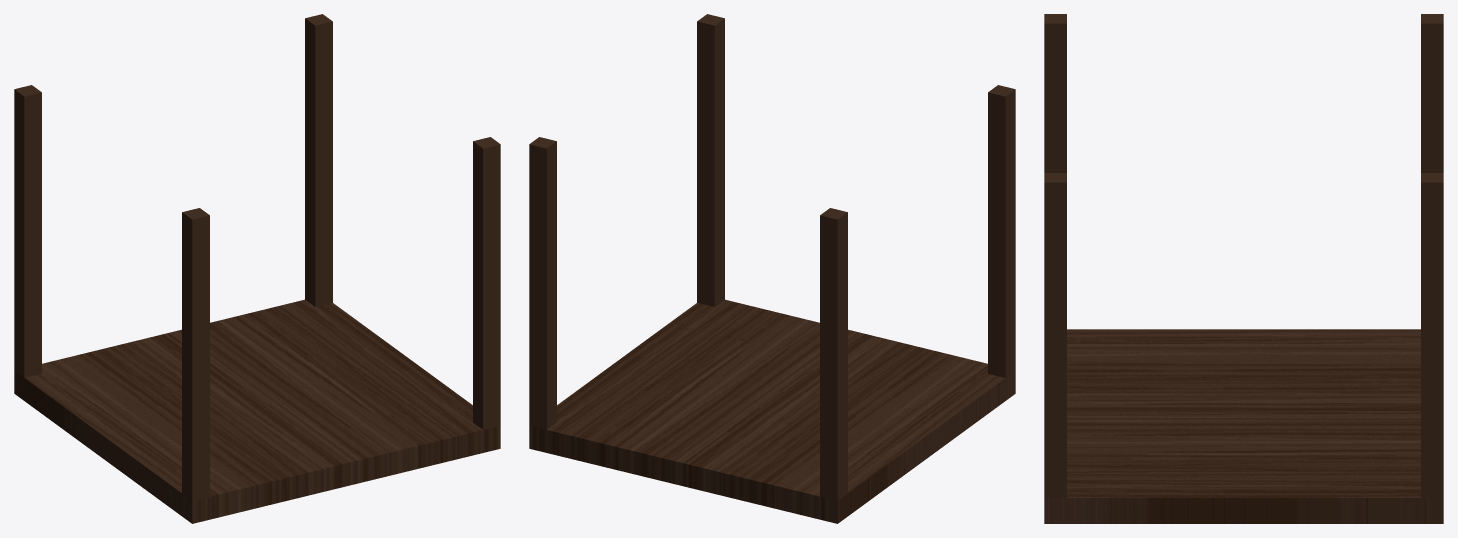
3 views of the same model, side by side, from view 1: azimuth 30°, elevation 25°; view 2: azimuth 150°, elevation 25°; view 3: azimuth 270°, elevation 25° (orthographic). The views are drawn at different scales.
Visible parts, largest first — view 1: box_3_3_3; view 2: box_3_3_3; view 3: box_3_3_3.
Part boxes in pixels (bbox=[...]): box_3_3_3: bbox=[14, 14, 500, 523]; box_3_3_3: bbox=[529, 14, 1015, 523]; box_3_3_3: bbox=[1044, 14, 1443, 523].
Size of the model in its own units: 0.14 by 0.132 by 0.14.
Materials: 2 (1 with a texture image).
